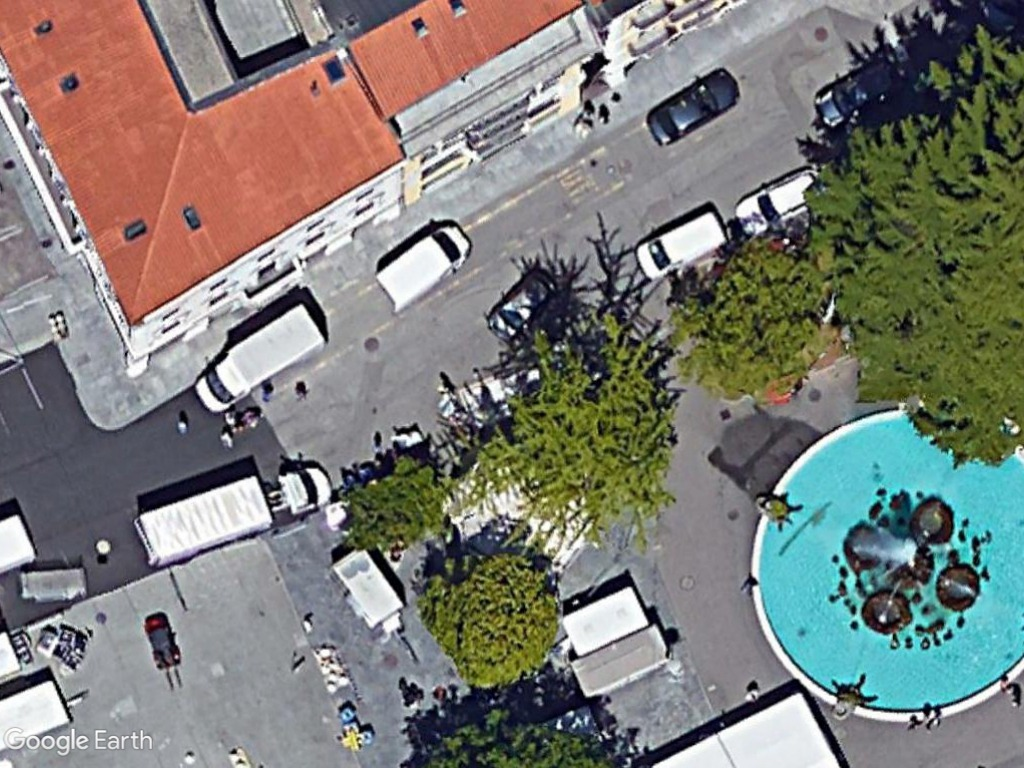car: (643, 69, 742, 150)
truck: (129, 452, 333, 575)
van: (191, 299, 330, 421), (371, 217, 472, 317), (630, 205, 728, 286)
